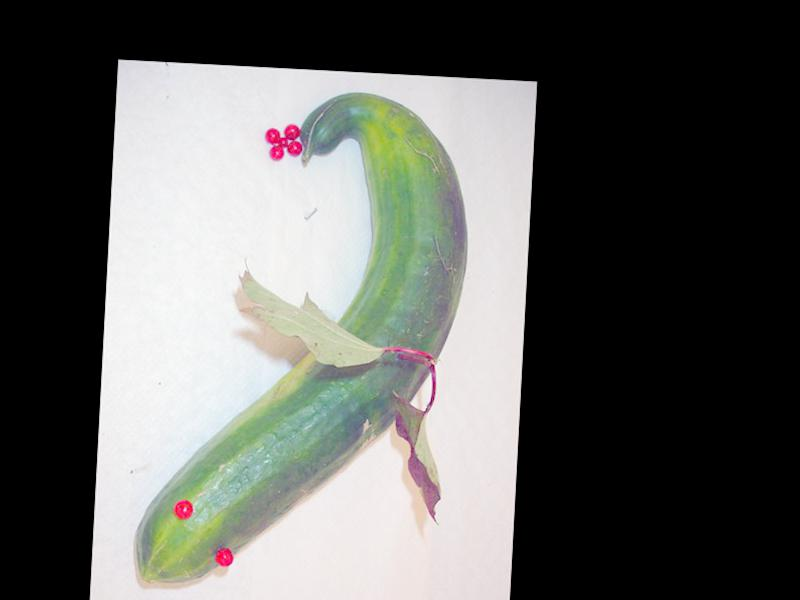Cucumber: (133, 82, 475, 599)
